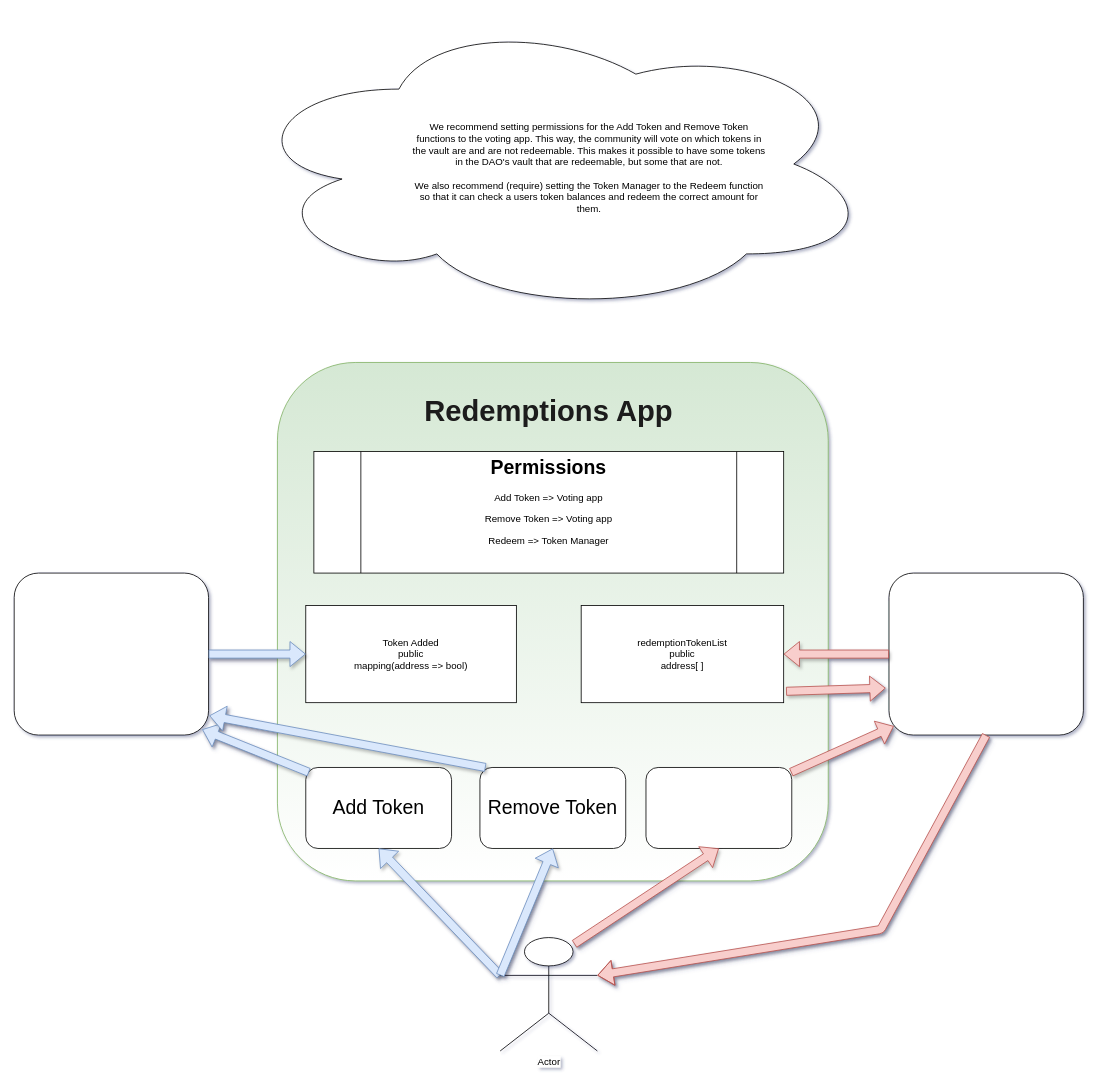
Image size: 1102x1087. Some labels were removed from this diagram. The centre of each missing label's shape, as x and y in pixels:
Redeem: point 718,807
Token Manager: point 985,653
Voting App: point 111,653
